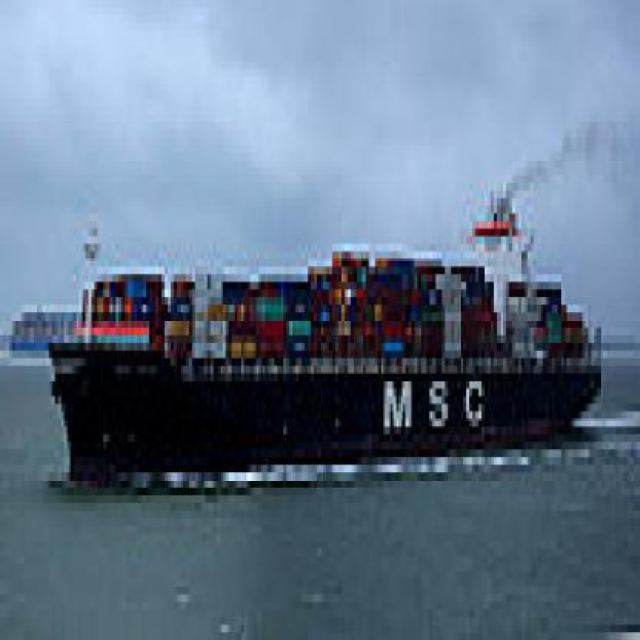container: (46, 138, 608, 496)
